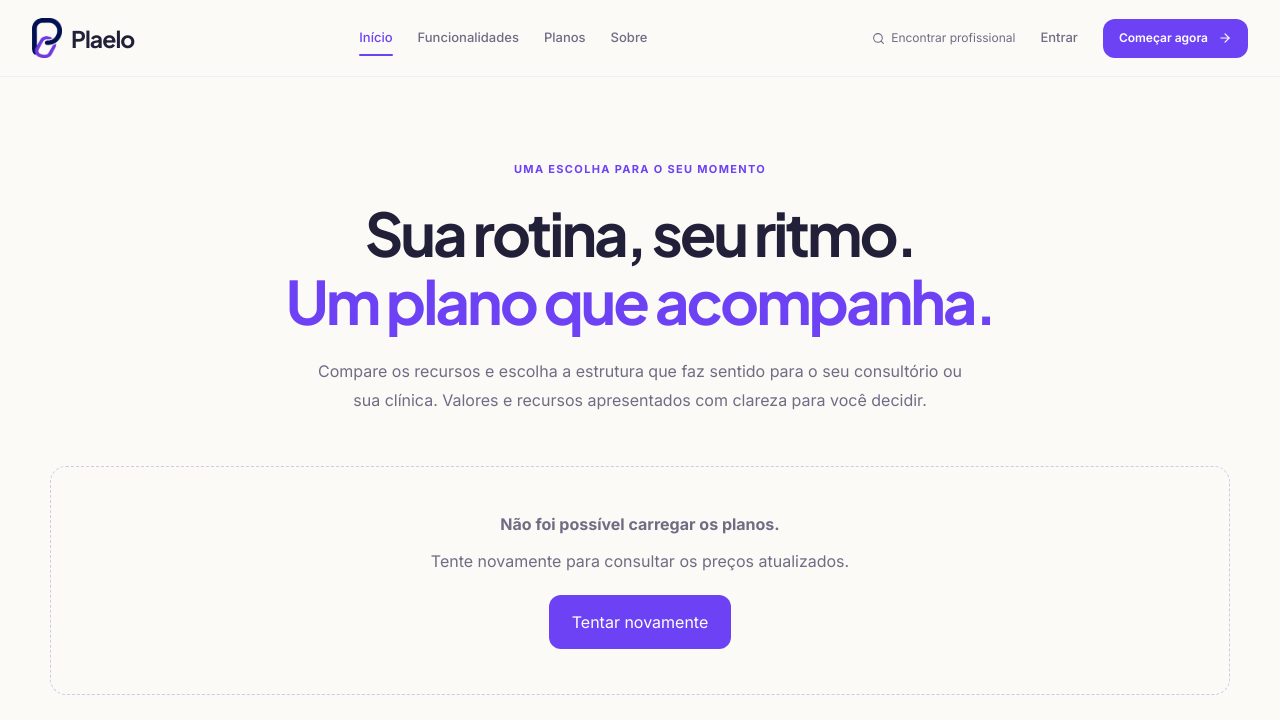
Site público da Plaelo › oferece nova tentativa se a API dos planos falhar
Expected: the message shows "Não foi possível carregar os planos.", [500, 514, 780, 534]
Click the button "Tentar novamente" at coordinates (640, 622), box [549, 595, 731, 649]
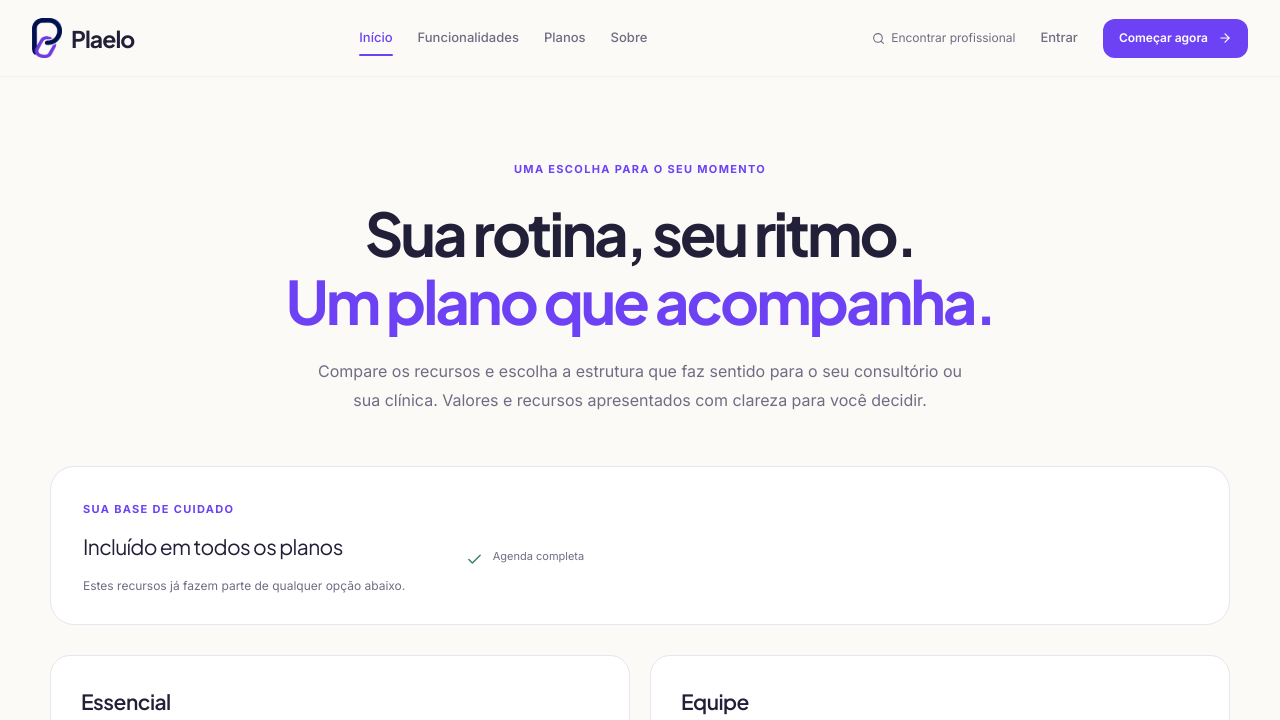
Expected: the heading "Essencial" is shown, [81, 688, 171, 715]
